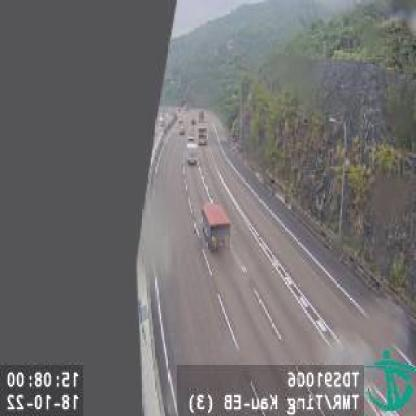Bus: (195, 123, 207, 145)
Truck: (199, 200, 231, 253), (186, 142, 196, 167)
